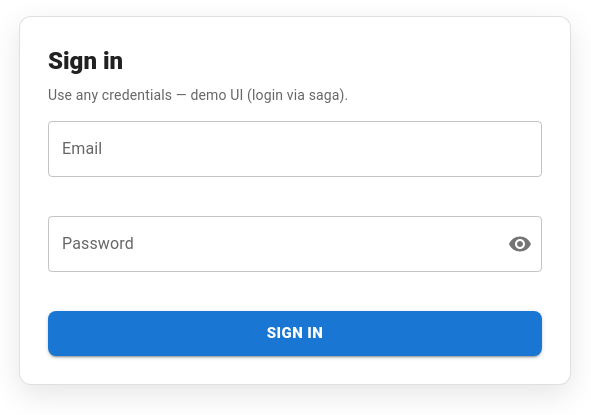
Test case: LoginPage › should show "Email is required" after email blur
Click the field labelled "Email".
click(295, 149)  # box [48,121,542,177]
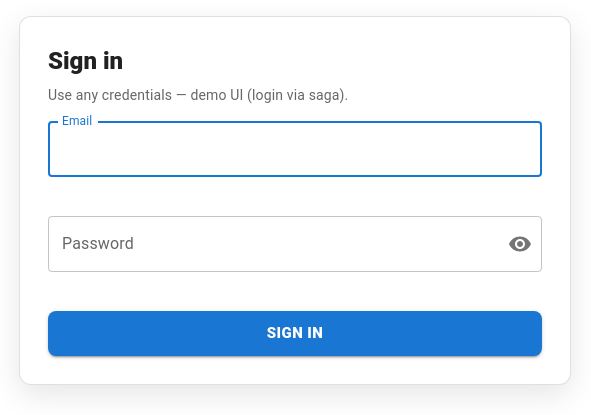
Press Tab
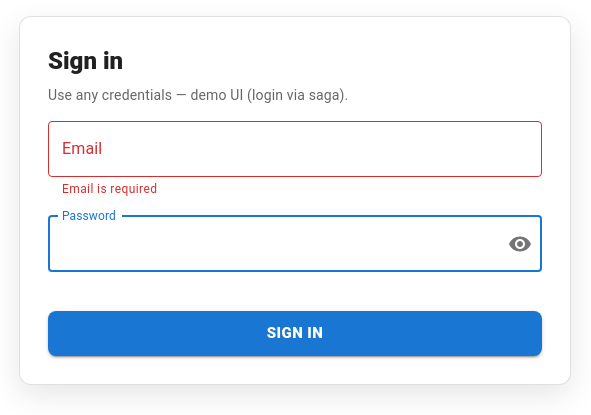
Expected: the text "Email is required" is shown, [62,182,157,196]
